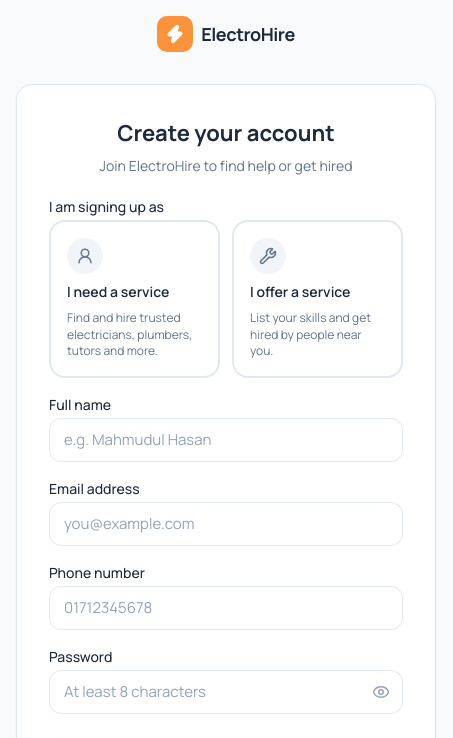
SignupPage › rejects an invalid phone number format
The width and height of the screenshot is (453, 738).
Type "12345" into the field labelled "Phone number" at (226, 608), box top-left (49, 586), bottom-right (403, 630)
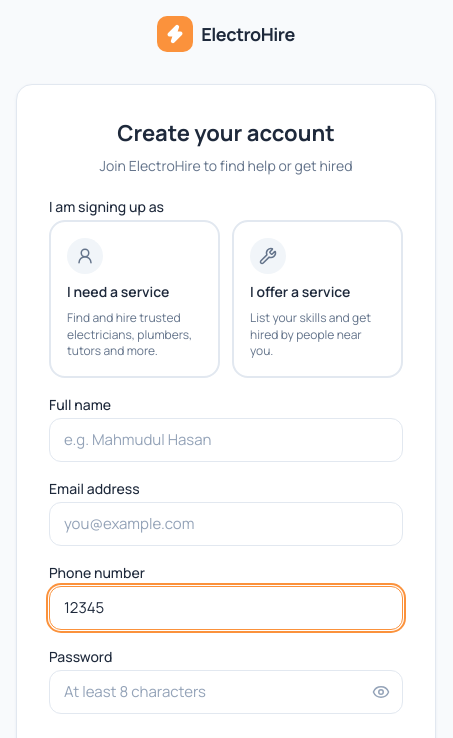
Press Tab
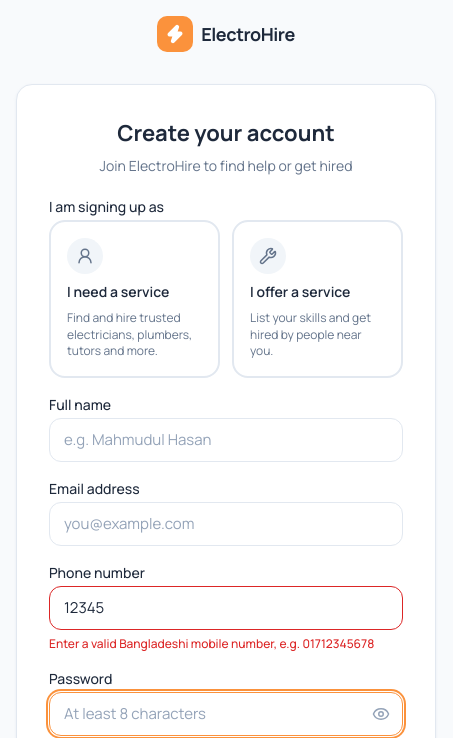
Check: the text "Enter a valid Bangladeshi mobile number, e.g. 01712345678" is shown, box top-left (49, 636), bottom-right (403, 652)
